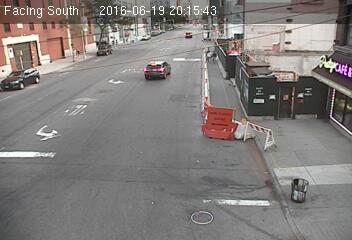neg: (82, 55, 94, 71), (133, 40, 142, 52)
pos: (209, 48, 220, 62)
